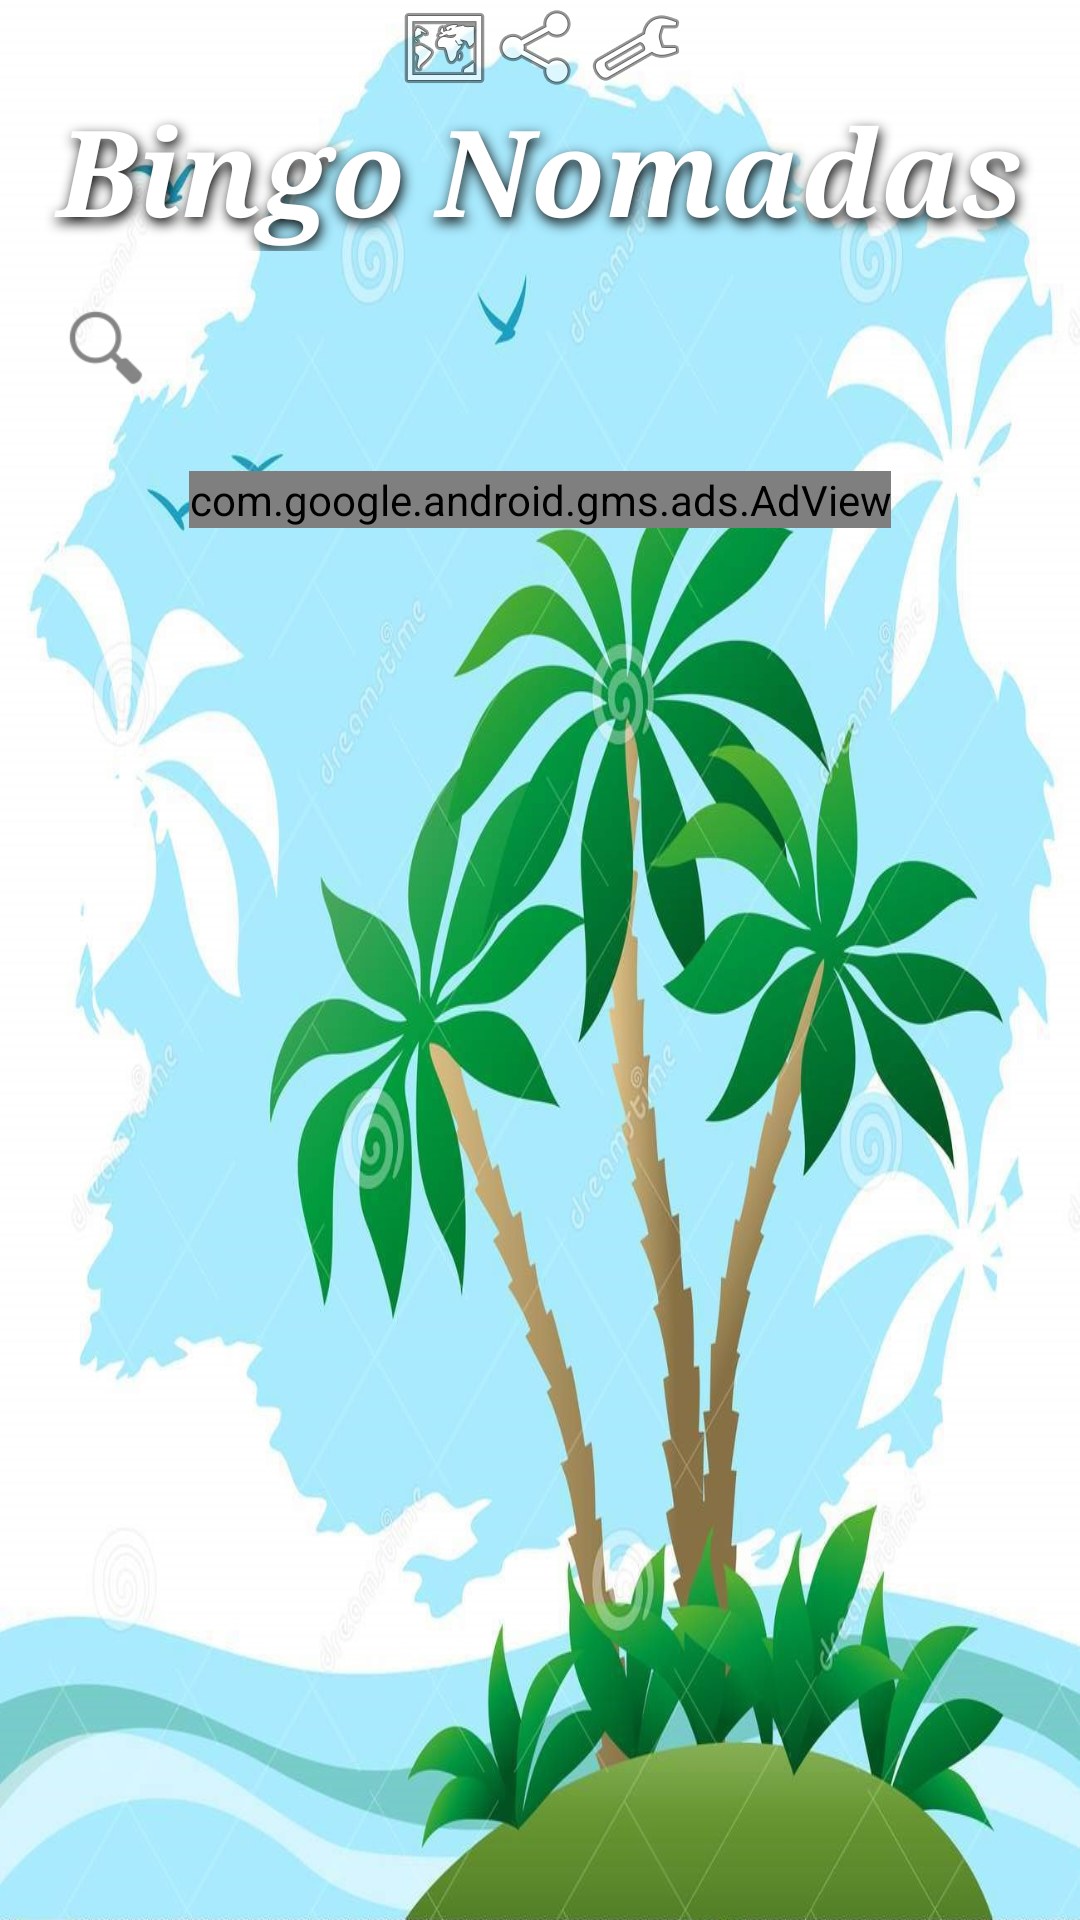

Icon click points for this 1080px x 1920px phone screenshot, format (x=x, y=y):
mapmode: (x=444, y=41)
preferences: (x=636, y=48)
share: (x=540, y=48)
